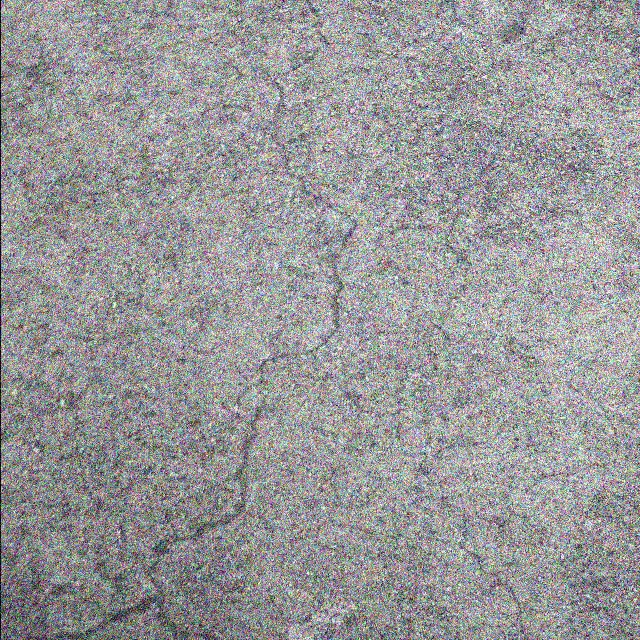SurfaceCrack: (20, 0, 391, 639)
